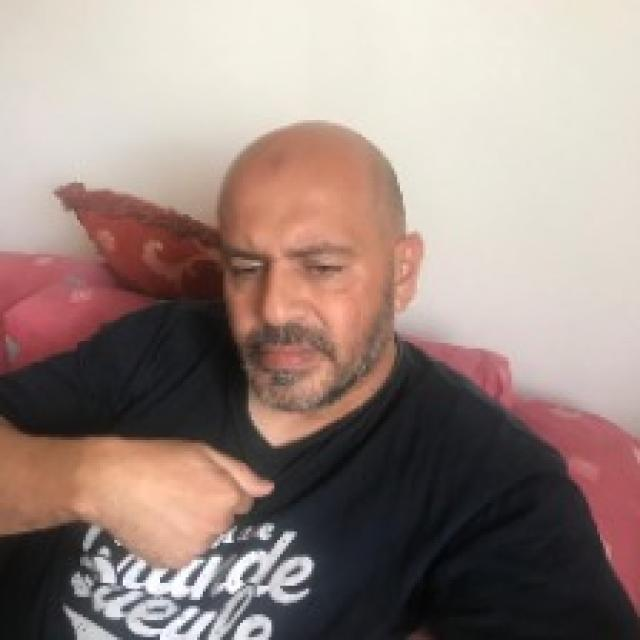me: (81, 428, 279, 574)
